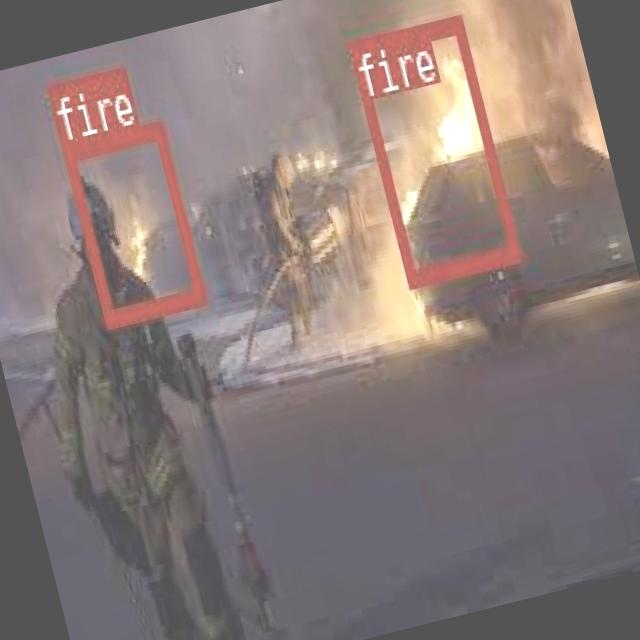fire: (346, 12, 519, 284), (60, 118, 203, 324)
